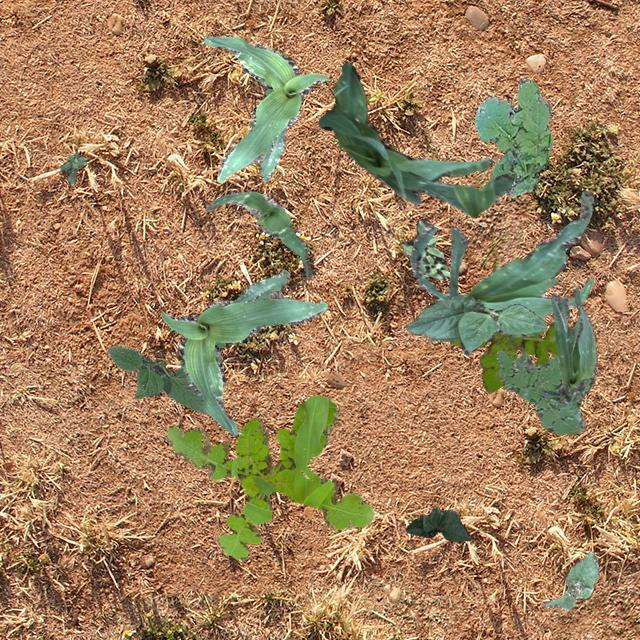crop: (318, 62, 512, 216), (160, 270, 327, 434), (410, 190, 592, 318), (200, 36, 328, 182), (204, 190, 310, 278), (406, 296, 546, 354), (106, 344, 206, 414), (536, 286, 596, 402), (542, 550, 598, 610), (404, 506, 470, 540)
weed: (165, 394, 372, 560), (474, 78, 552, 196), (496, 349, 594, 434), (448, 320, 556, 392), (400, 218, 450, 280), (60, 152, 86, 184)
